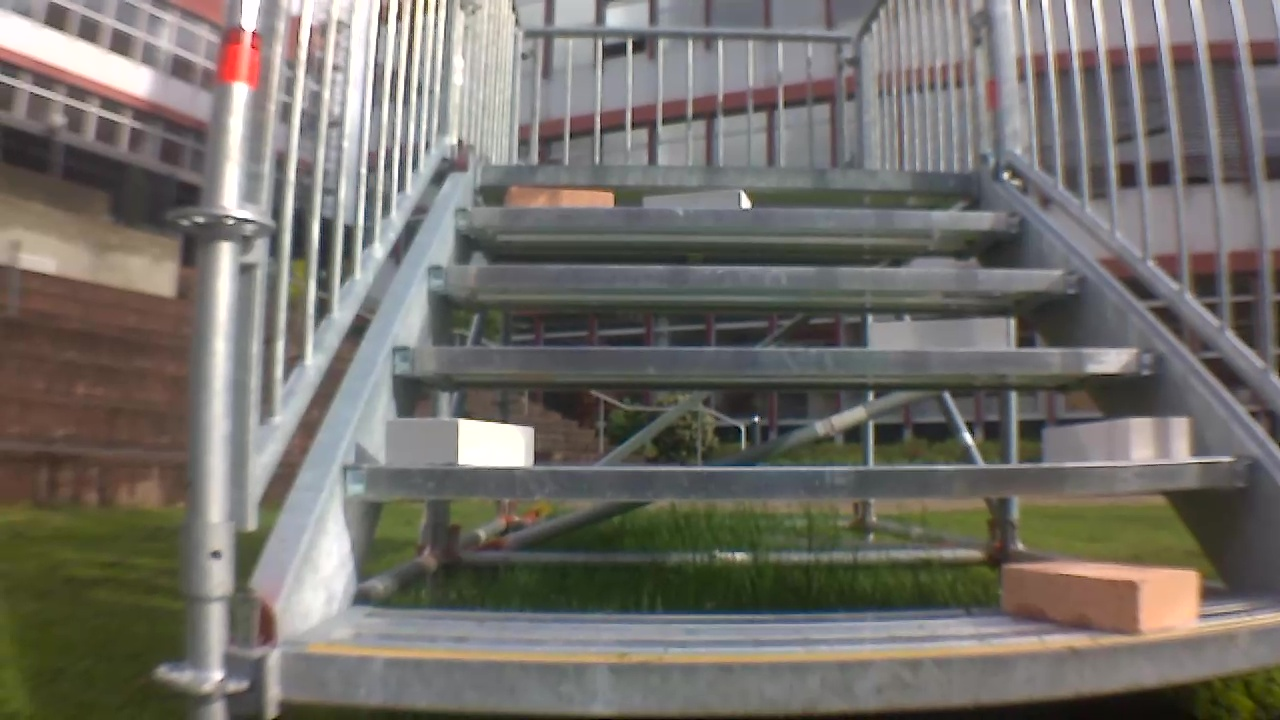brick: (1002, 561, 1198, 632), (386, 419, 534, 466), (1043, 418, 1193, 460), (871, 318, 1015, 349), (504, 188, 612, 207), (644, 191, 751, 209)
edge: (281, 621, 1280, 716), (346, 460, 1254, 497), (386, 348, 1156, 375), (427, 267, 1084, 291), (456, 206, 1019, 230), (482, 164, 978, 190)
stairs: (165, 4, 1280, 714)
steps: (275, 161, 1280, 717)
